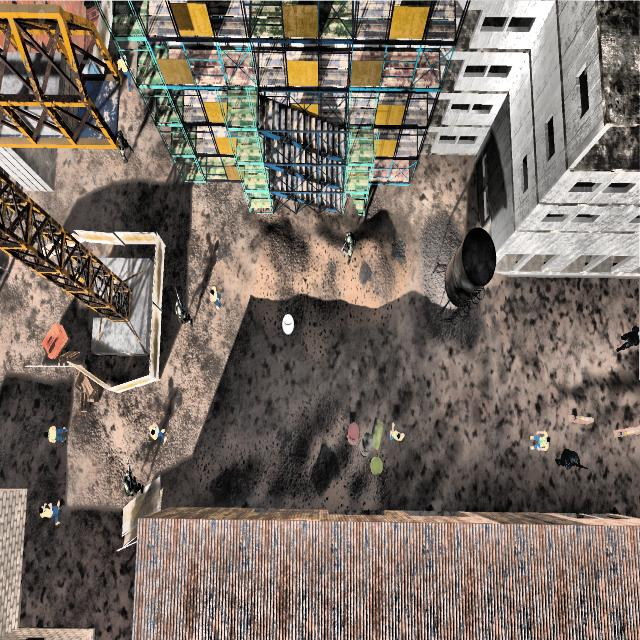bad: (119, 453, 148, 509), (554, 440, 583, 478), (337, 223, 362, 266), (111, 123, 134, 166), (168, 298, 195, 330), (618, 320, 640, 359)
good: (37, 483, 65, 536), (202, 270, 227, 324), (40, 415, 72, 451), (526, 423, 552, 461), (384, 414, 408, 453), (145, 418, 169, 452), (118, 43, 133, 96)
